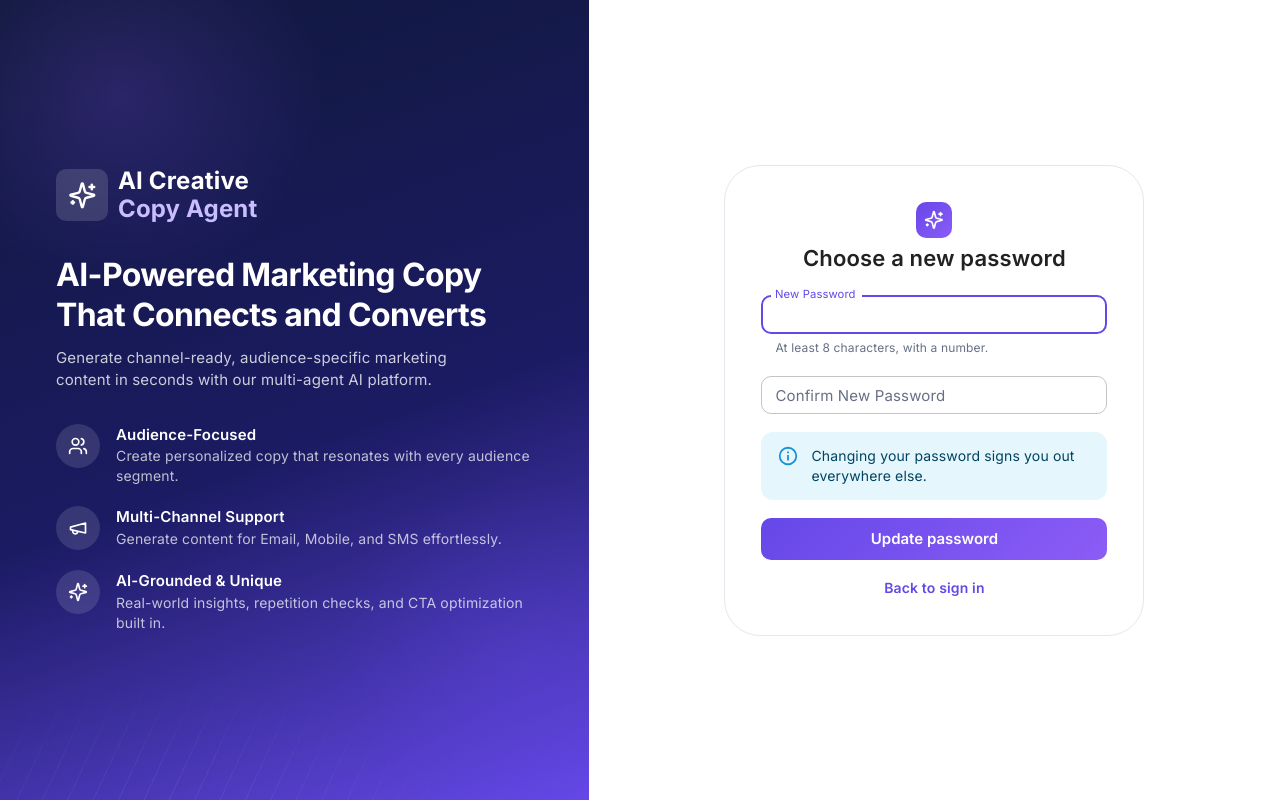
Scenario: ResetPasswordPage › warns that an expired link cannot be used
This screenshot has width=1280, height=800.
Type "BrandNewPass1" into the password field labelled "New Password" at (934, 314), box [761, 295, 1107, 334]
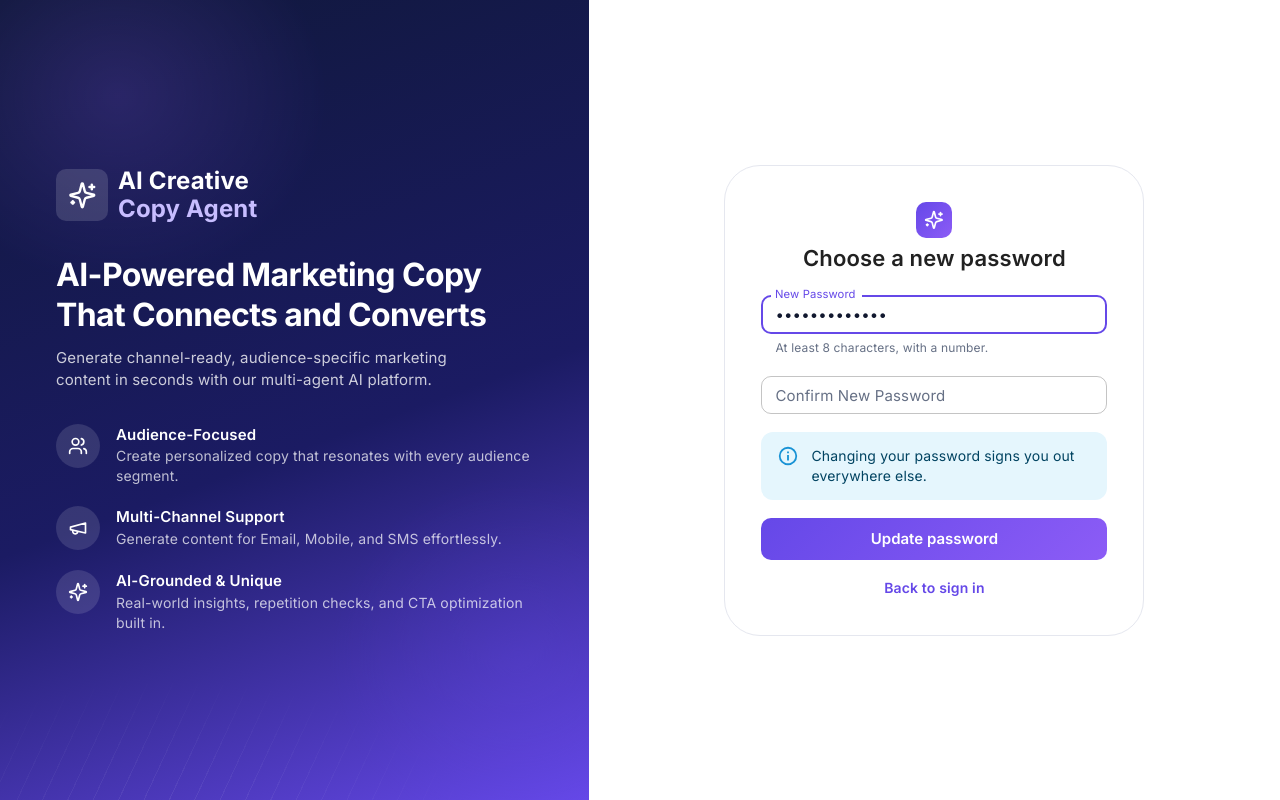
Type "BrandNewPass1" into the password field labelled "Confirm New Password" at (934, 395), box [761, 376, 1107, 414]
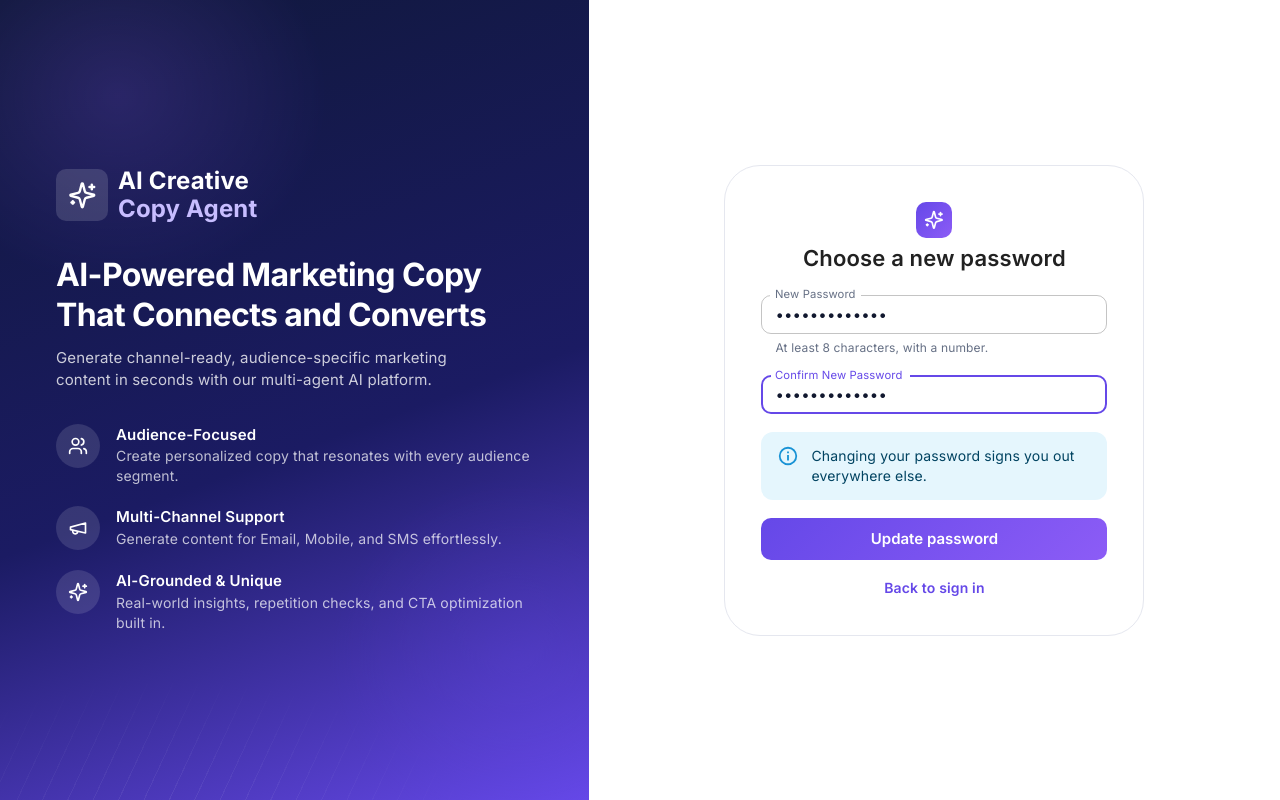
Click the button "Update password" at (934, 539), box [761, 518, 1107, 560]
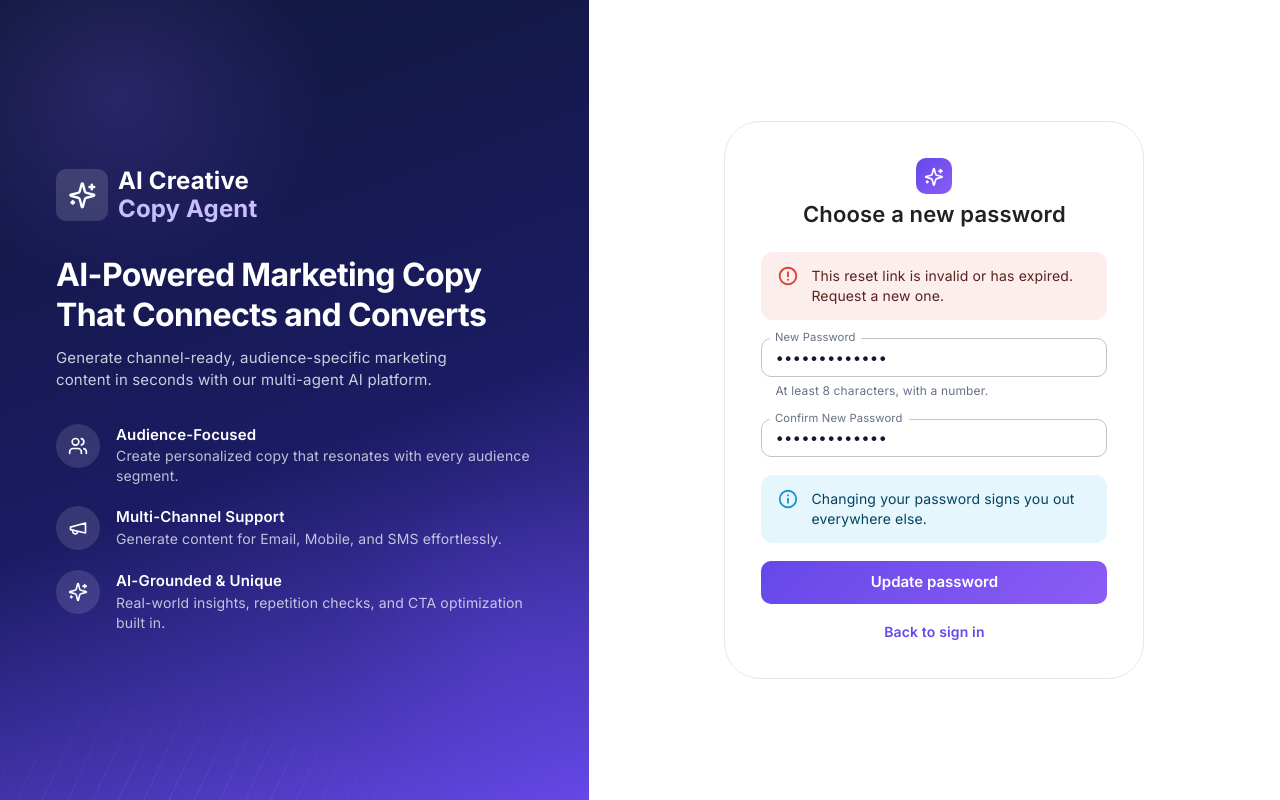
Expected: the message shows "invalid or has expired", [811, 267, 1073, 304]
